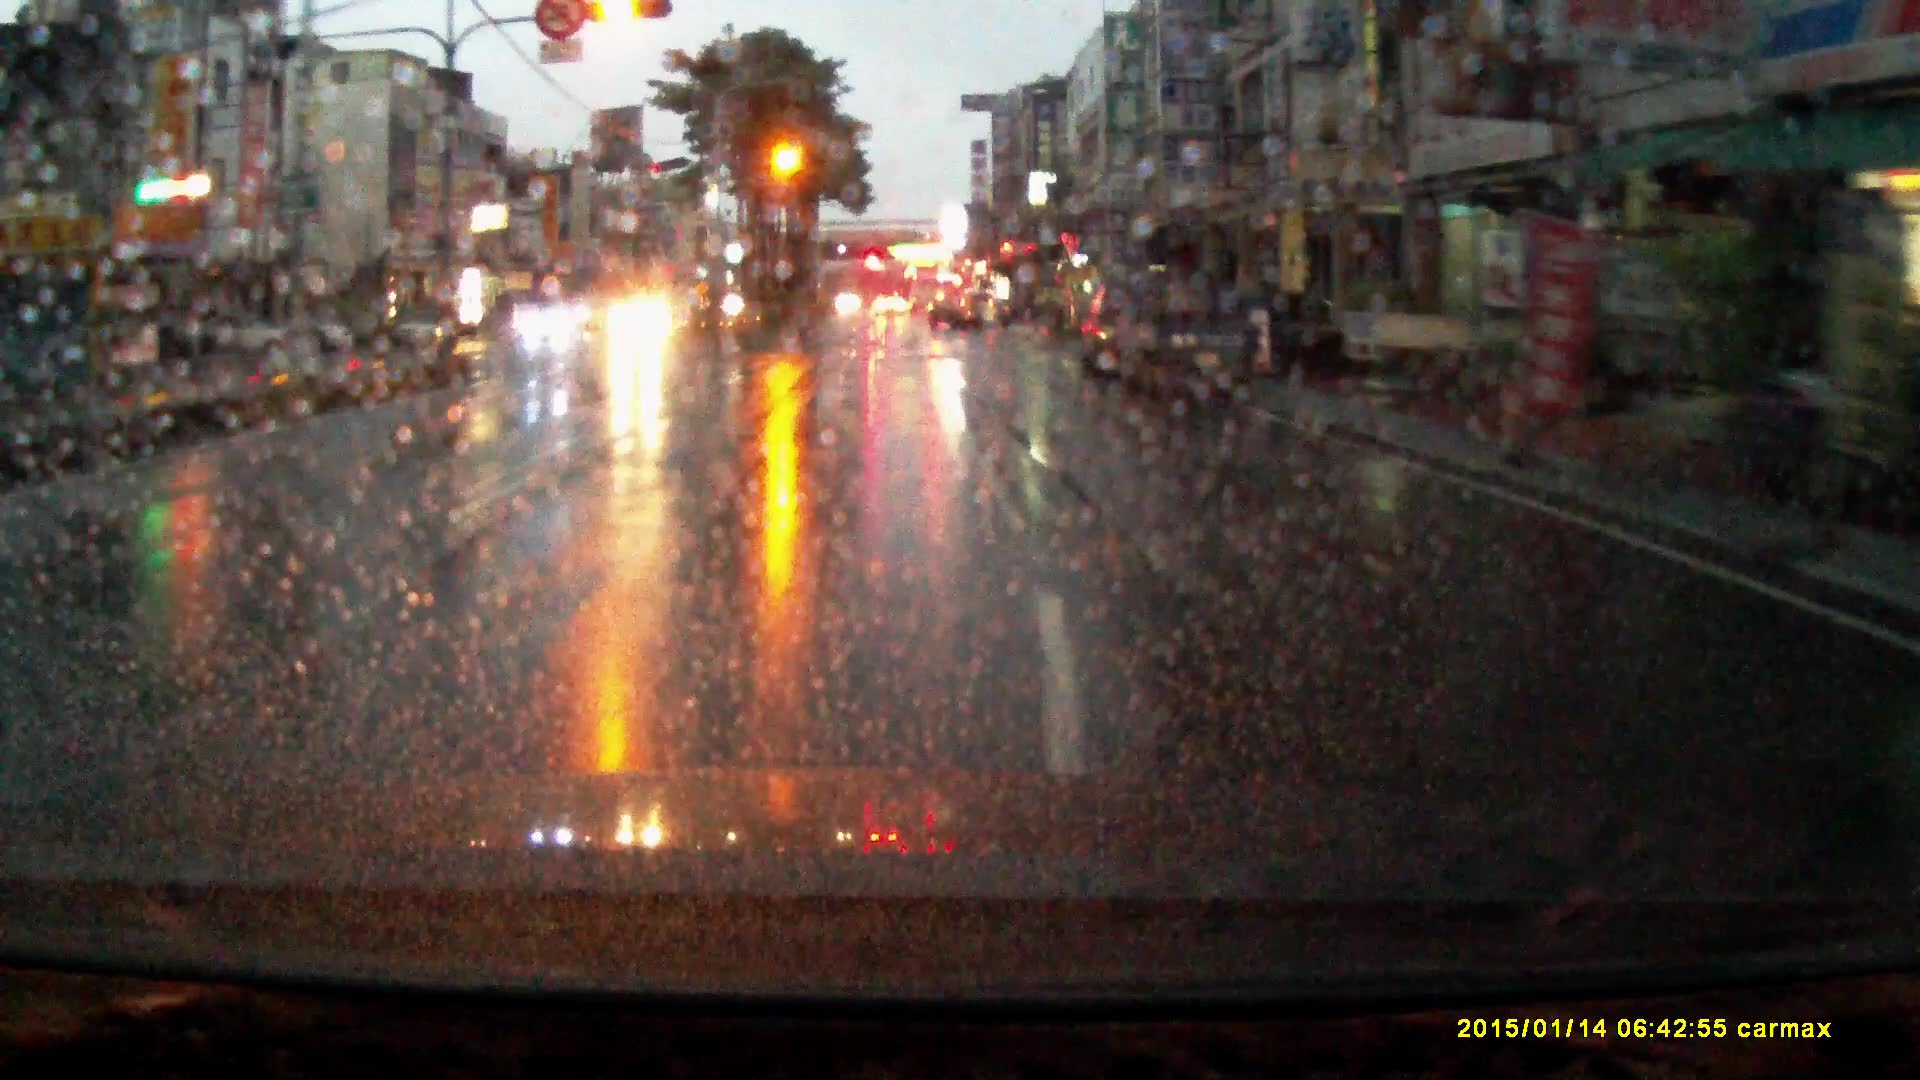vehicle: (1113, 265, 1261, 397), (1342, 309, 1544, 384), (187, 311, 305, 359), (603, 289, 679, 345), (1083, 277, 1121, 378), (284, 311, 363, 353), (930, 284, 998, 330), (396, 302, 459, 347), (522, 301, 583, 343), (911, 262, 945, 307), (873, 291, 911, 316)
